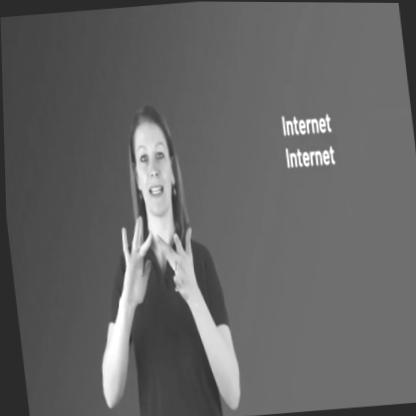Internet: (112, 203, 200, 322)
